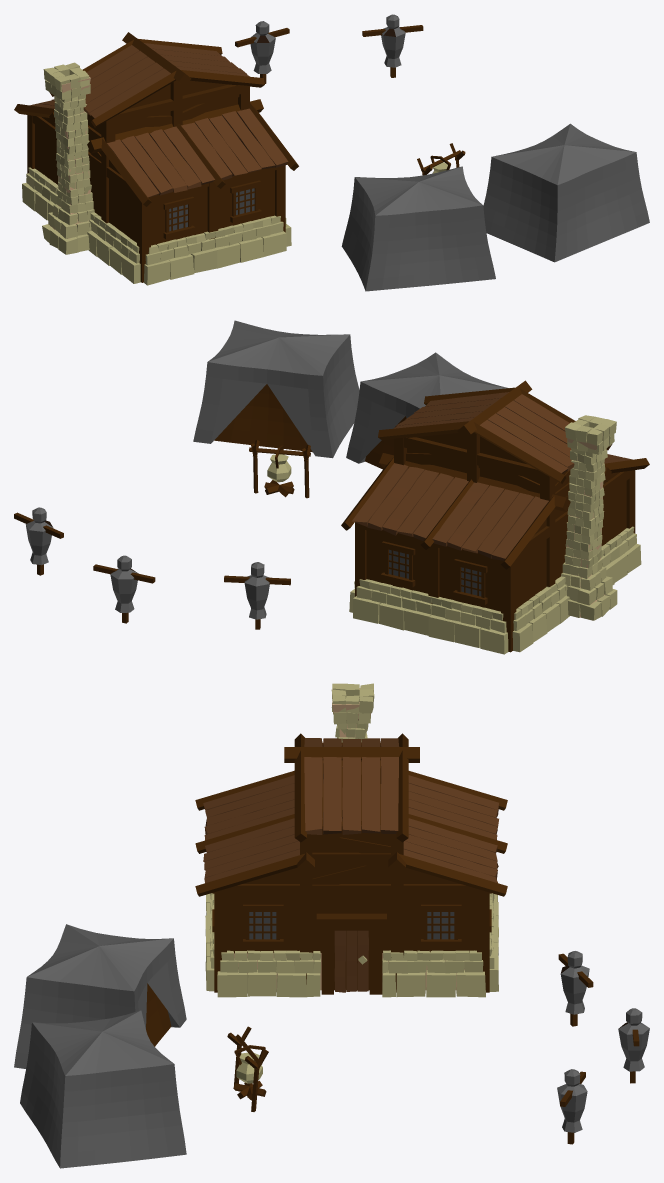
Rendered from Barrack.fbx.
3 views of the same model, one above another, from view 1: azimuth 30°, elevation 25°; view 2: azimuth 150°, elevation 25°; view 3: azimuth 270°, elevation 25° (orthographic). The views are drawn at different scales.
Parts seen in each view (by area): view 1: Window.005; view 2: Window.005; view 3: Window.005.
Boxes of the visible parts, x1,y1,x2,y2 form: Window.005: (14,14,649,291); Window.005: (14,320,649,654); Window.005: (14,683,649,1168).
Size of the model in its own units: 1721 by 621 by 1666.
